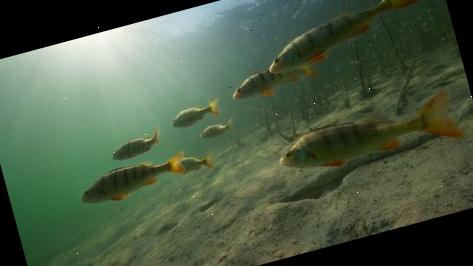fish: (272, 86, 466, 184), (251, 0, 429, 78), (74, 148, 191, 210), (226, 56, 320, 105), (166, 96, 225, 130), (106, 127, 162, 162), (196, 116, 236, 140)
